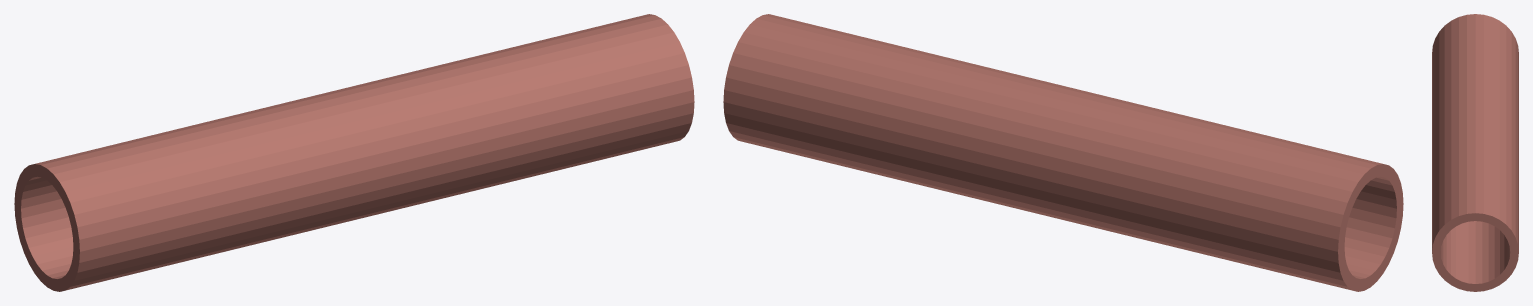
Rendered from dranmar_hollow_tissue_aligned.glb.
The picture shows the model from 3 angles, left to right: view 1: azimuth 30°, elevation 25°; view 2: azimuth 150°, elevation 25°; view 3: azimuth 270°, elevation 25°; orthographic projection. The views are drawn at different scales.
Parts seen in each view (by area): view 1: LeftTissue, RightTissue; view 2: LeftTissue, RightTissue; view 3: RightTissue, LeftTissue.
Boxes of the visible parts, <box> form: LeftTissue: <box>14,89,387,291</box>; RightTissue: <box>342,14,694,215</box>; LeftTissue: <box>1030,89,1403,291</box>; RightTissue: <box>723,14,1075,215</box>; RightTissue: <box>1432,113,1518,291</box>; LeftTissue: <box>1432,14,1518,150</box>.
Bounding box in the file's own units: 0.13 × 0.024 × 0.024.
